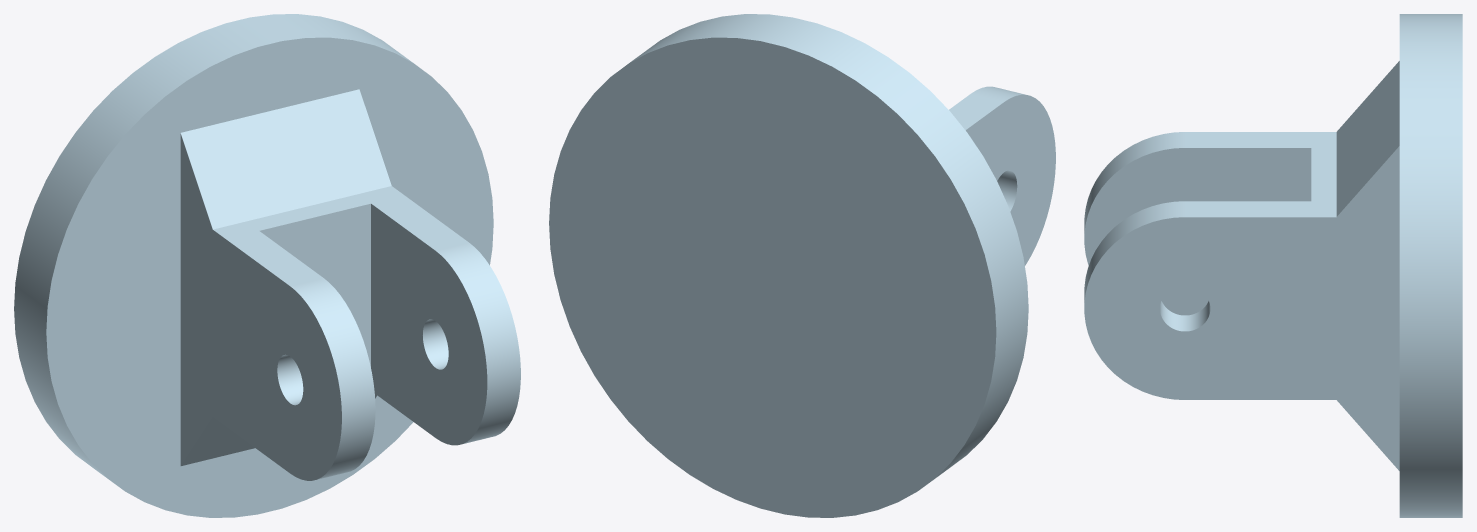
File: ArmBase.gltf
The picture shows the model from 3 angles, left to right: view 1: azimuth 30°, elevation 25°; view 2: azimuth 150°, elevation 25°; view 3: azimuth 270°, elevation 25°; orthographic projection. The views are drawn at different scales.
Visible parts, largest first — view 1: Part 1; view 2: Part 1; view 3: Part 1.
Part boxes in pixels (x1=…): Part 1: x1=14, y1=14, x2=520, y2=517; Part 1: x1=549, y1=14, x2=1055, y2=517; Part 1: x1=1084, y1=14, x2=1462, y2=517.
Bounding box in the file's own units: 0.1 × 0.0999 × 0.075.
